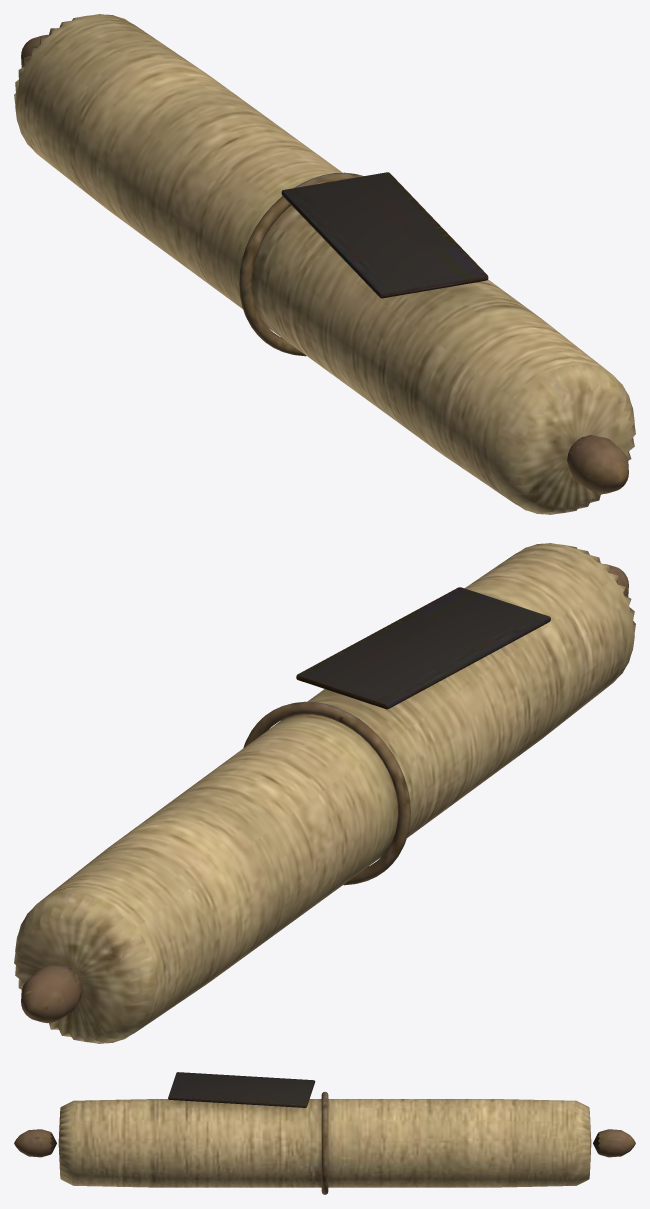
Rendered from dionysius_thrax.glb.
3 renders of one model, top to bottom at view 1: azimuth 30°, elevation 25°; view 2: azimuth 150°, elevation 25°; view 3: azimuth 270°, elevation 25°, orthographic. The views are drawn at different scales.
Visible parts, largest first — view 1: dionysius_thrax; view 2: dionysius_thrax; view 3: dionysius_thrax.
Part boxes in pixels (box(x1,y1,x2,y2)): dionysius_thrax: box(14, 14, 635, 514); dionysius_thrax: box(14, 543, 635, 1043); dionysius_thrax: box(14, 1072, 635, 1194).
Size of the model in its own units: 0.0369 by 0.038 by 0.2217.
Materials: 1 (1 with a texture image).
